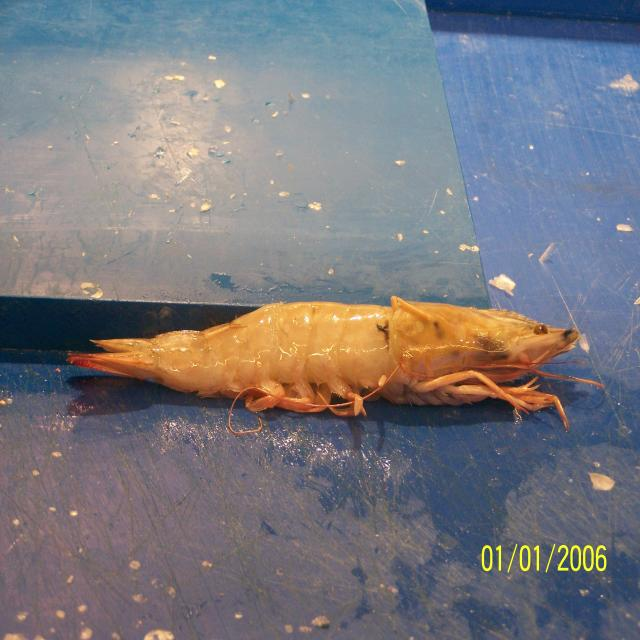Shrimp-karides-: (67, 297, 589, 427)
